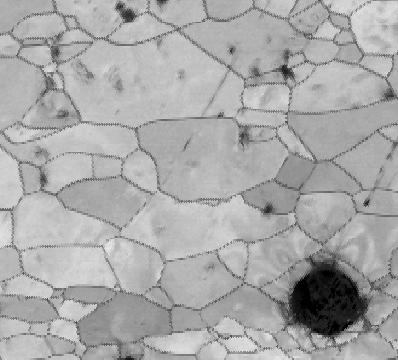good_void: (277, 252, 375, 338), (36, 73, 60, 110), (115, 0, 143, 31), (69, 62, 98, 88), (282, 44, 297, 90), (230, 125, 254, 148), (34, 165, 55, 188), (106, 66, 125, 91), (51, 108, 76, 124), (247, 58, 263, 82), (361, 186, 378, 208), (258, 203, 282, 218), (380, 86, 398, 105), (203, 259, 217, 281), (182, 134, 194, 153), (48, 45, 60, 63), (175, 67, 186, 80), (218, 112, 229, 124), (155, 34, 164, 48), (155, 0, 170, 8), (230, 44, 235, 57)
